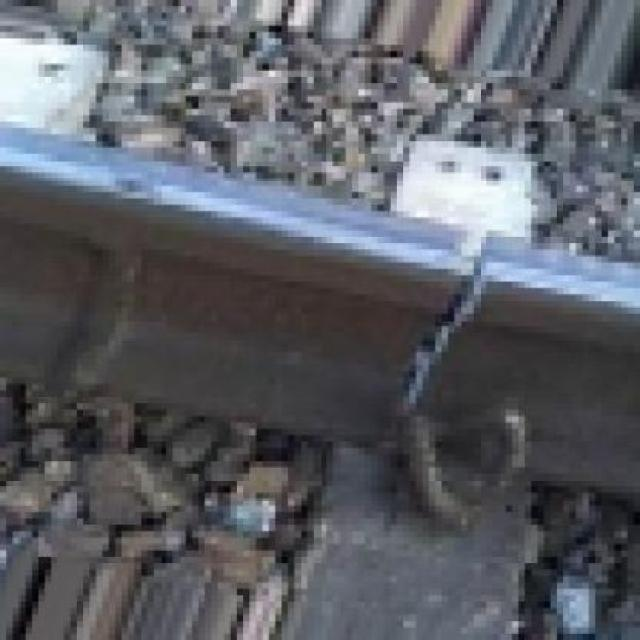defective: (8, 69, 640, 624)
